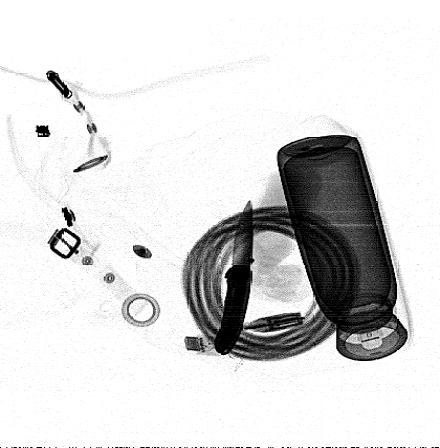Knife: (214, 197, 253, 357)
